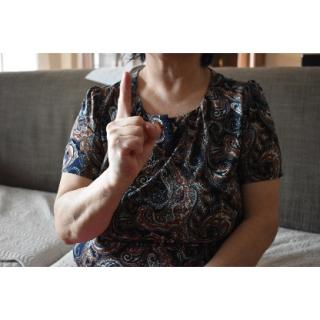RAA: (99, 70, 167, 192)
